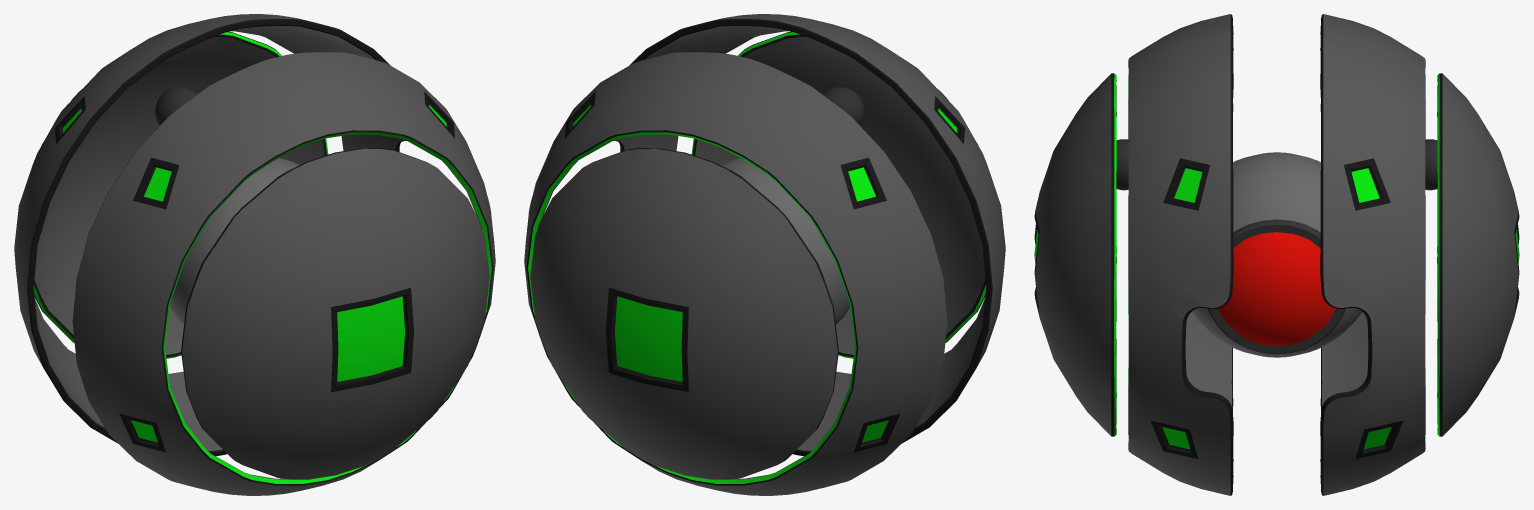
The model's file is DroneBody.fbx.
3 renders of one model, left to right at view 1: azimuth 30°, elevation 25°; view 2: azimuth 150°, elevation 25°; view 3: azimuth 270°, elevation 25°, orthographic. The views are drawn at different scales.
Parts seen in each view (by area): view 1: OuterShell, OuterShell_RWing, OuterShell_LWing, DroneCore, Hinge_L; view 2: OuterShell, OuterShell_LWing, OuterShell_RWing, DroneCore, Hinge_R; view 3: OuterShell, OuterShell_LWing, OuterShell_RWing, DroneCore, Hinge_L, Hinge_R.
Part boxes in pixels (x1=…): OuterShell: x1=14, y1=14, x2=495, y2=495; OuterShell_RWing: x1=181, y1=148, x2=489, y2=479; OuterShell_LWing: x1=33, y1=31, x2=328, y2=358; DroneCore: x1=169, y1=158, x2=299, y2=324; Hinge_L: x1=155, y1=87, x2=197, y2=125; OuterShell: x1=524, y1=14, x2=1005, y2=495; OuterShell_LWing: x1=530, y1=148, x2=838, y2=479; OuterShell_RWing: x1=691, y1=31, x2=986, y2=358; DroneCore: x1=720, y1=158, x2=850, y2=324; Hinge_R: x1=822, y1=87, x2=864, y2=125; OuterShell: x1=1128, y1=14, x2=1425, y2=495; OuterShell_LWing: x1=1437, y1=73, x2=1519, y2=436; OuterShell_RWing: x1=1034, y1=73, x2=1116, y2=436; DroneCore: x1=1192, y1=152, x2=1361, y2=357; Hinge_L: x1=1425, y1=139, x2=1437, y2=190; Hinge_R: x1=1116, y1=139, x2=1128, y2=190.
Size of the model in its own units: 57.83 by 58.89 by 59.04.
